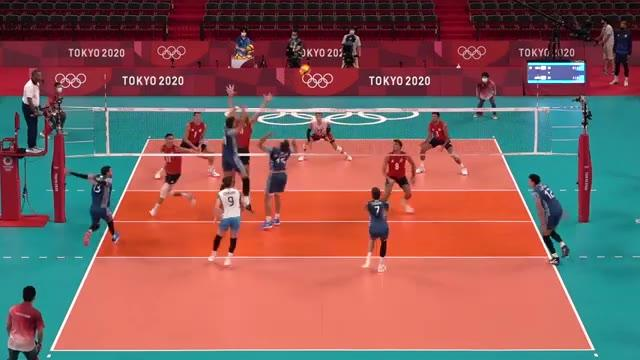ball: (297, 64, 312, 78)
